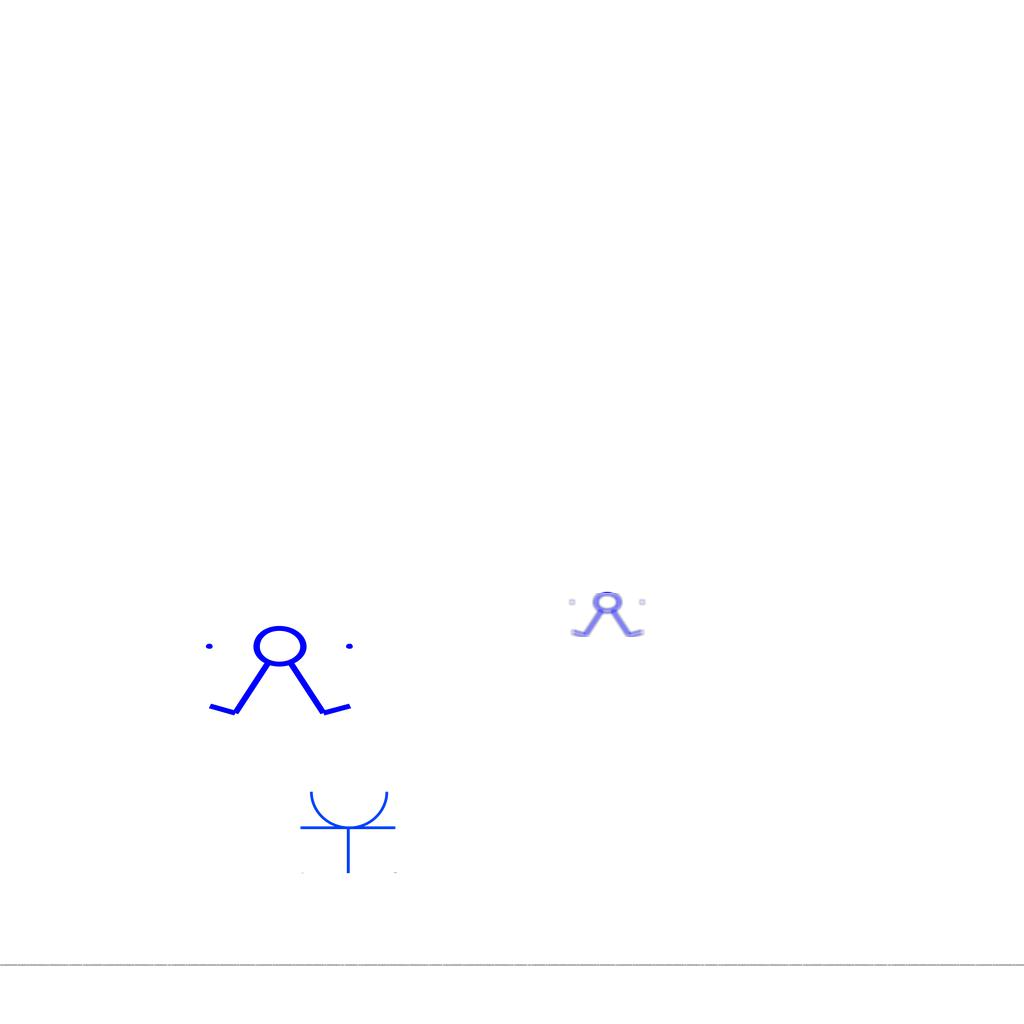Schukosteckdose_einfach: (299, 787, 399, 874)
Serienschalter: (197, 624, 365, 720), (566, 591, 650, 639)
